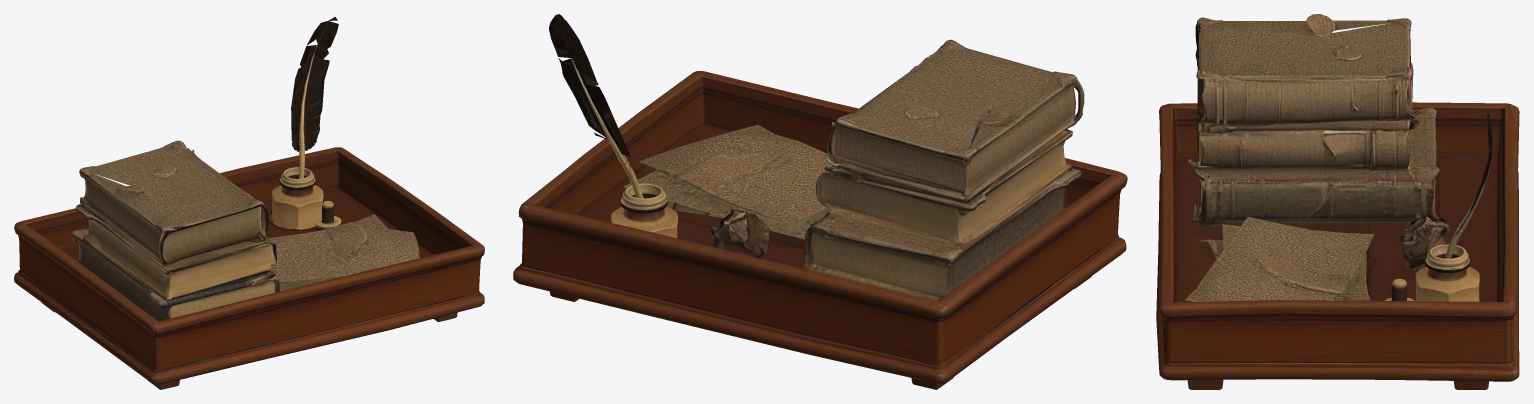
The model's file is atd_writing_station.glb.
The picture shows the model from 3 angles, left to right: view 1: azimuth 30°, elevation 25°; view 2: azimuth 150°, elevation 25°; view 3: azimuth 270°, elevation 25°; orthographic projection. The views are drawn at different scales.
Parts seen in each view (by area): view 1: tripo_7717c0a7_5310_4873_bf37_4d877271873c; view 2: tripo_7717c0a7_5310_4873_bf37_4d877271873c; view 3: tripo_7717c0a7_5310_4873_bf37_4d877271873c.
Boxes of the visible parts, left/top/right/bottom form: tripo_7717c0a7_5310_4873_bf37_4d877271873c: left=14, top=17, right=484, bottom=389; tripo_7717c0a7_5310_4873_bf37_4d877271873c: left=513, top=14, right=1127, bottom=389; tripo_7717c0a7_5310_4873_bf37_4d877271873c: left=1156, top=14, right=1519, bottom=389.
Size of the model in its own units: 0.9995 by 0.6265 by 0.7515.
1 material, 1 textured.
